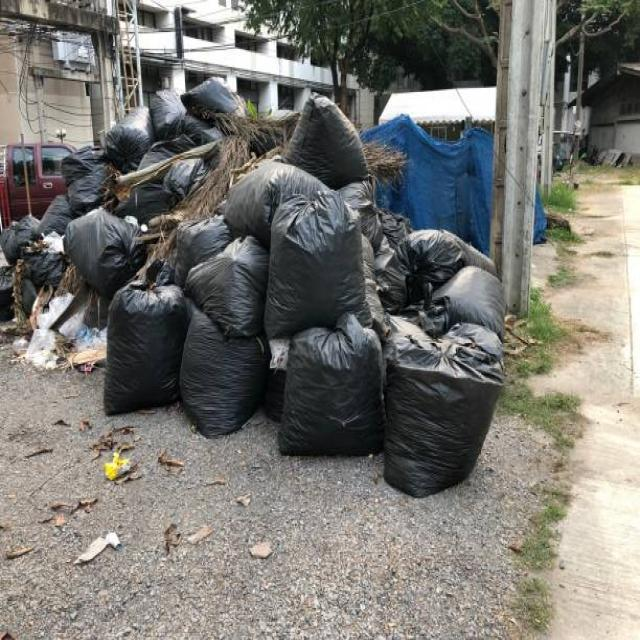garbage: (390, 327, 500, 485), (274, 321, 389, 462), (270, 185, 372, 325), (382, 222, 504, 328), (108, 285, 188, 417), (186, 313, 264, 438), (178, 206, 268, 314), (296, 102, 374, 184), (66, 210, 136, 280), (238, 156, 318, 206), (149, 86, 202, 150), (63, 144, 119, 204), (181, 71, 245, 121), (106, 102, 152, 168)
